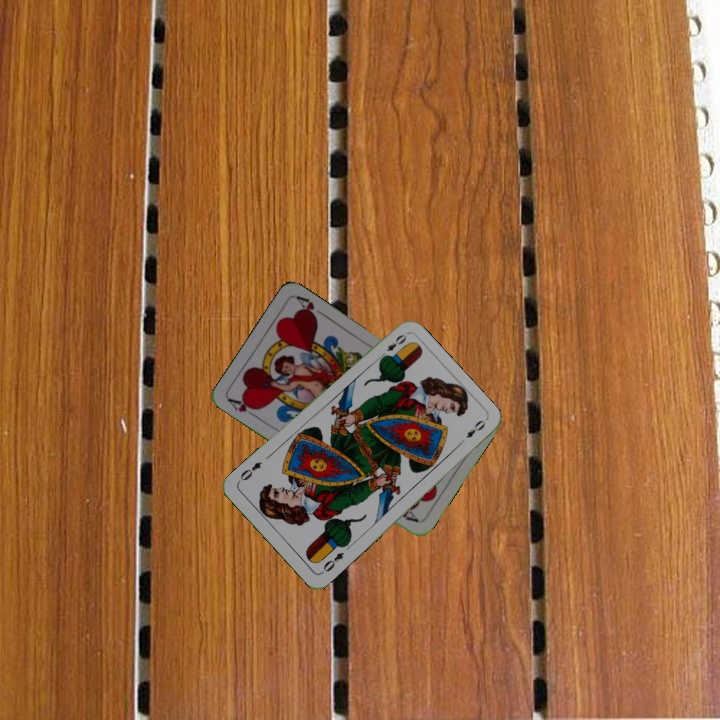EO: (375, 330, 409, 362), (317, 548, 347, 576)
HA: (224, 394, 261, 421)
